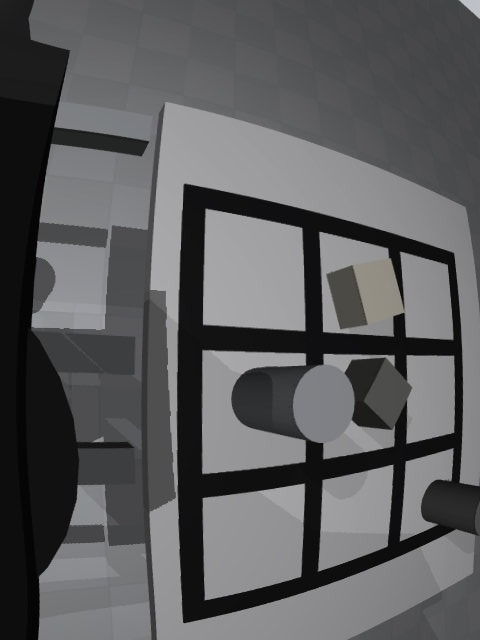can: (231, 365, 355, 443)
cube: (344, 358, 412, 430)
cylinder: (421, 480, 480, 536)
foam: (326, 258, 404, 329)
